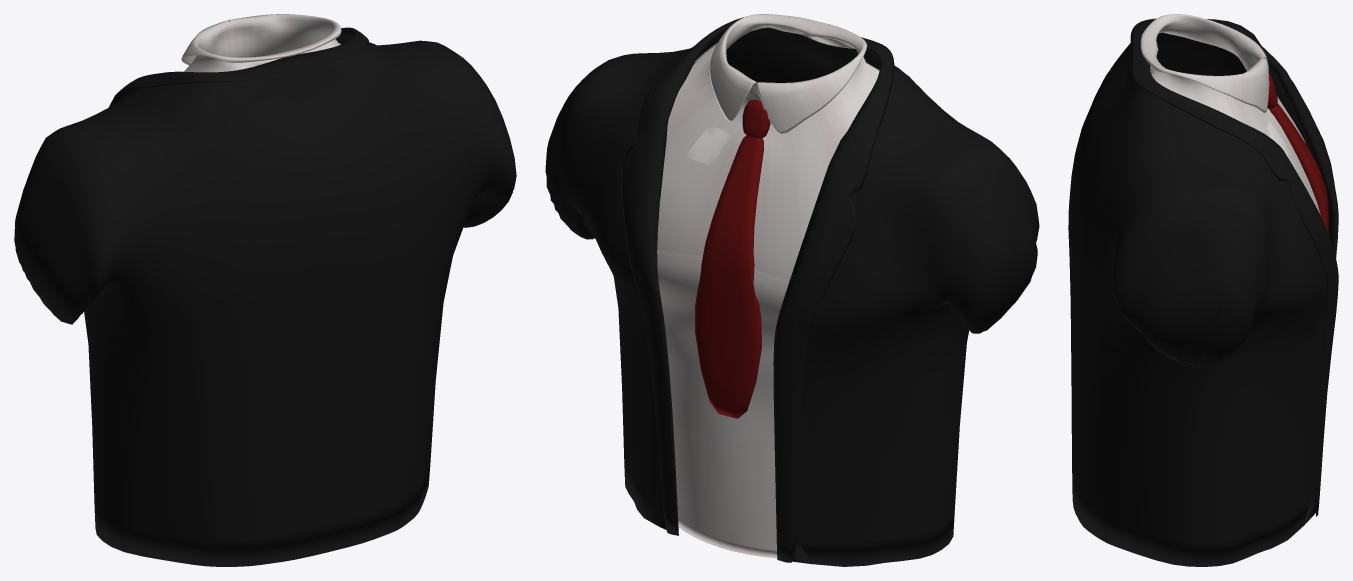
The model's file is things.FBX.
3 renders of one model, left to right at view 1: azimuth 30°, elevation 25°; view 2: azimuth 150°, elevation 25°; view 3: azimuth 270°, elevation 25°, orthographic. The views are drawn at different scales.
Parts seen in each view (by area): view 1: Man002, Man004; view 2: Man002, Man004, Box015; view 3: Man002, Man004, Box015.
Part boxes in pixels (x1,y1,x2,y2): Man002: (14,27,516,566); Man004: (181,14,341,72); Man002: (545,17,1039,566); Man004: (657,14,879,558); Box015: (695,99,770,418); Man002: (1068,18,1338,566); Man004: (1140,14,1320,214); Box015: (1267,72,1328,233).
Size of the model in its own units: 68.41 by 66.77 by 36.13.
